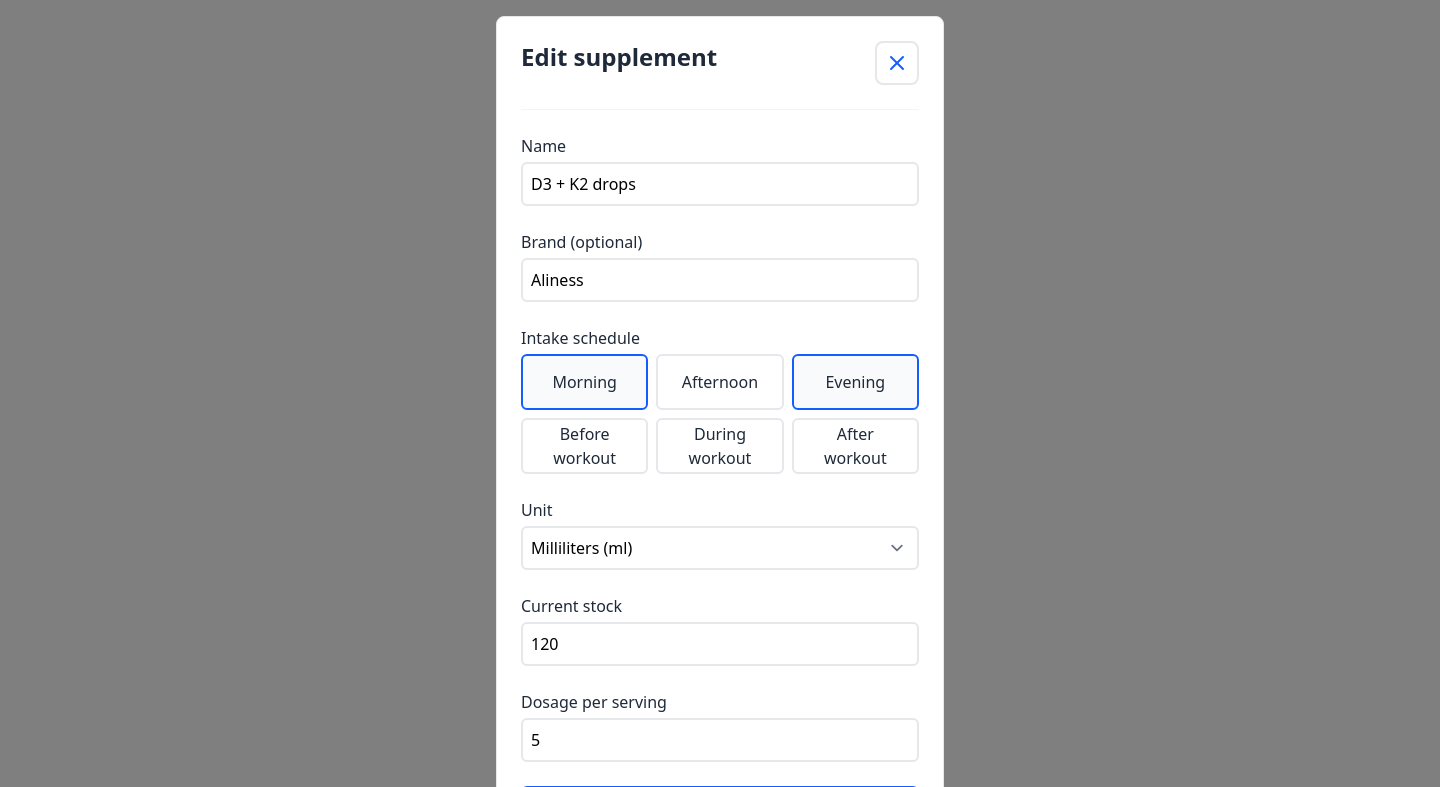
Test: SupplementFormModal › displays an error message when trying to submit with no time of day selected
Click the button "Morning" at (585, 382), box [521,354,648,410]
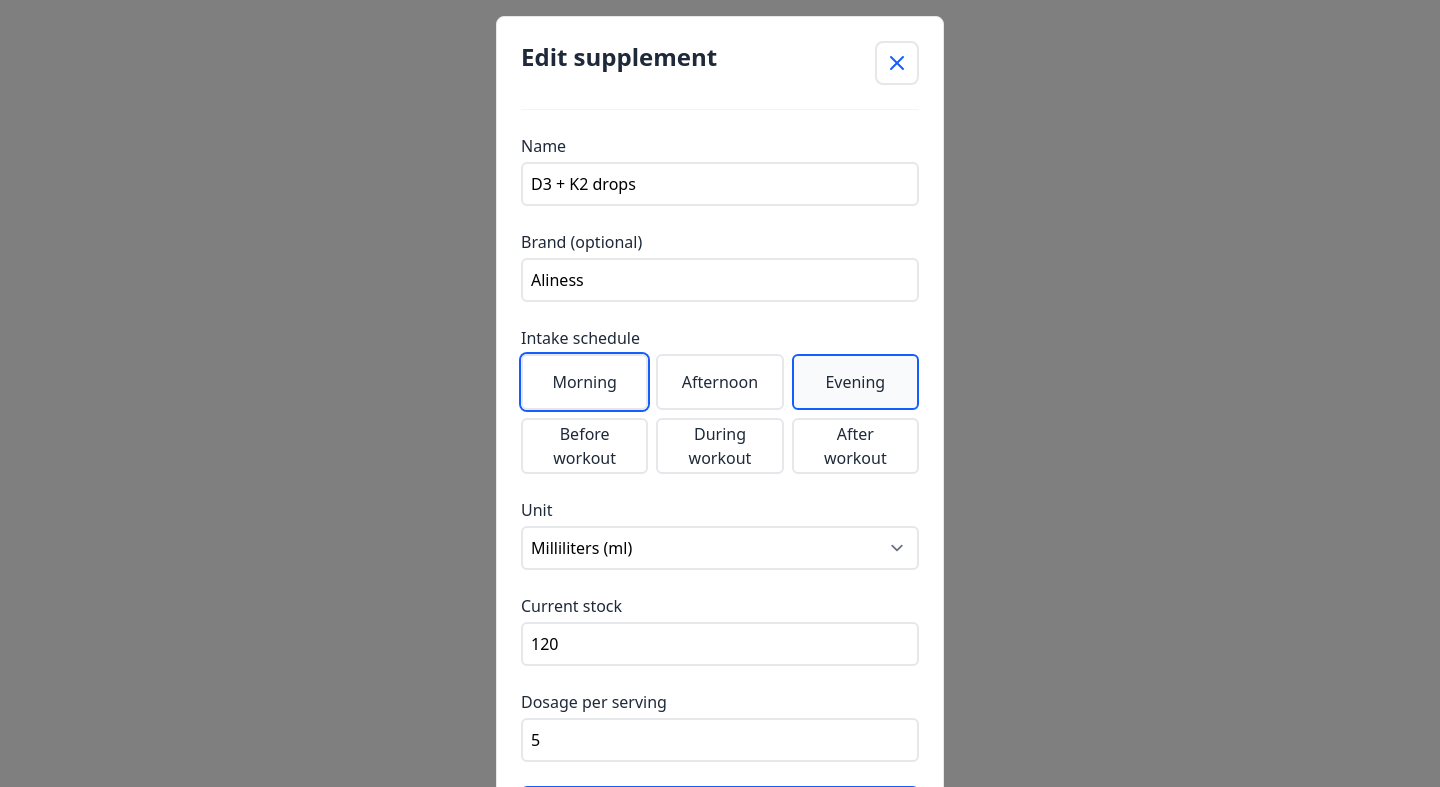
Click the button "Evening" at (855, 382), box [792,354,919,410]
(page scrolled)
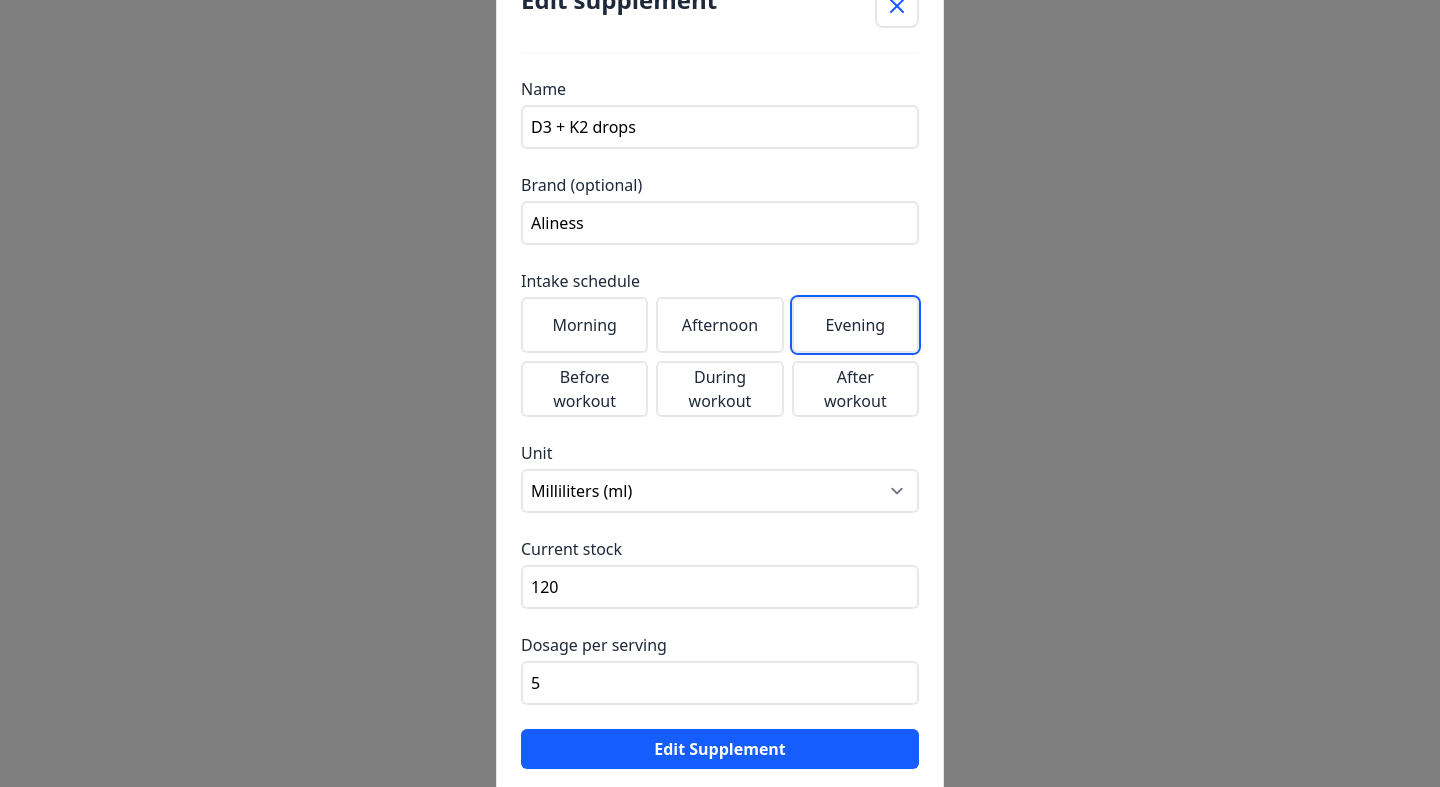
Click the button "Edit Supplement" at (720, 749), box [521,729,919,769]
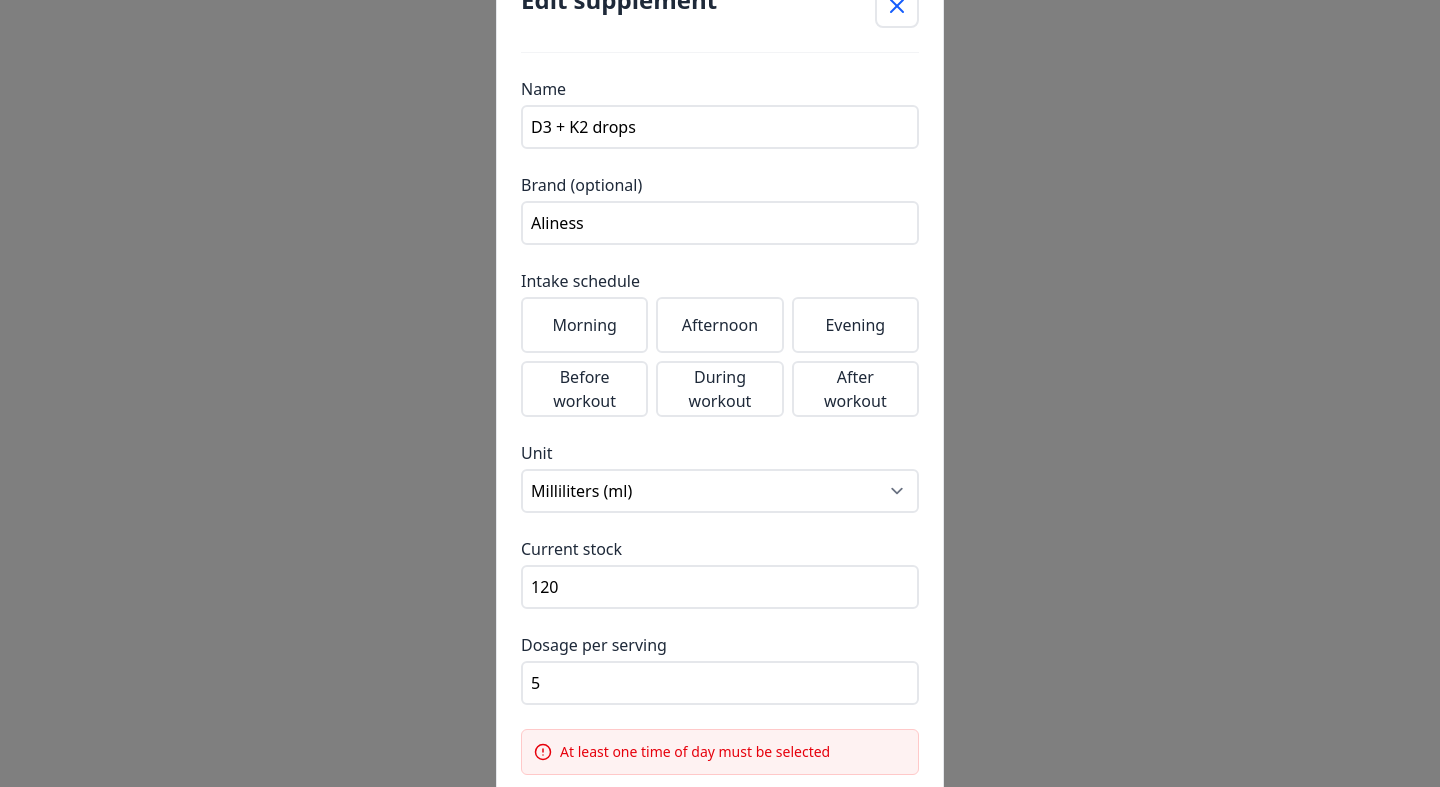
Now the text "At least one time of day must be selected" is shown, box [560,742,830,762]
